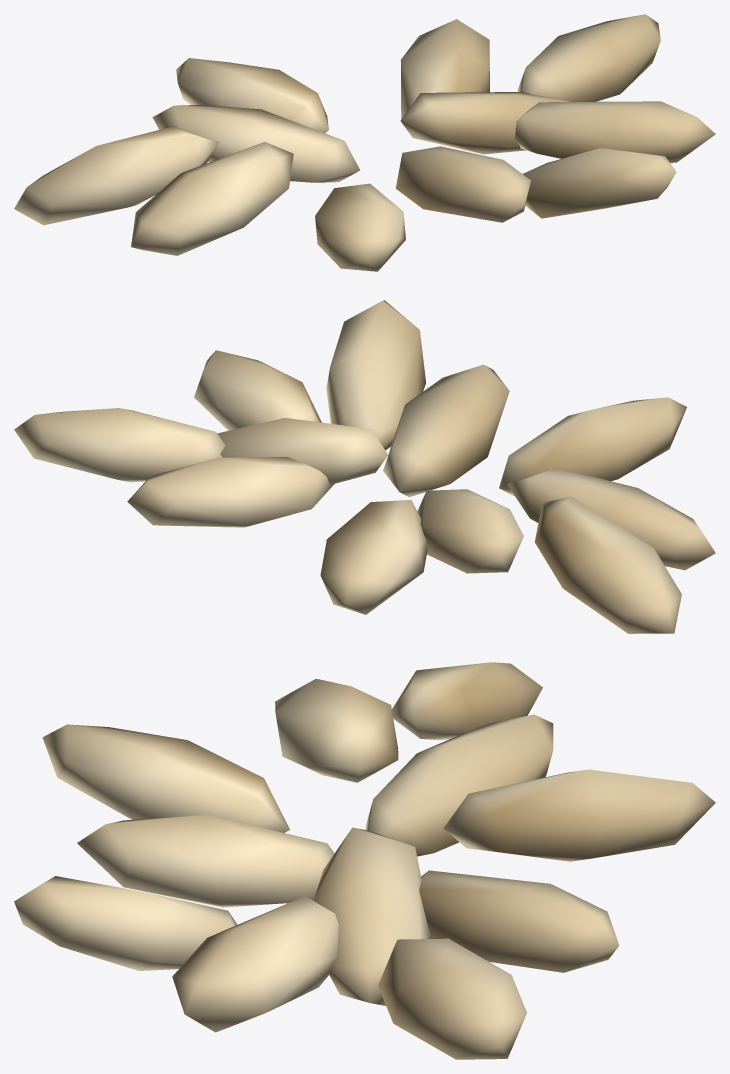
Rendered from NP_Orchid_Seed_LOD1.fbx.
3 views of the same model, one above another, from view 1: azimuth 30°, elevation 25°; view 2: azimuth 150°, elevation 25°; view 3: azimuth 270°, elevation 25° (orthographic). The views are drawn at different scales.
Visible parts, largest first — view 1: NP_Orchid_Seed; view 2: NP_Orchid_Seed; view 3: NP_Orchid_Seed.
Boxes of the visible parts, <box> form: NP_Orchid_Seed: <box>14,14,715,271</box>; NP_Orchid_Seed: <box>14,300,715,633</box>; NP_Orchid_Seed: <box>14,662,715,1059</box>.
Bounding box in the file's own units: 13.86 × 1.87 × 10.11.
1 material, 1 textured.
